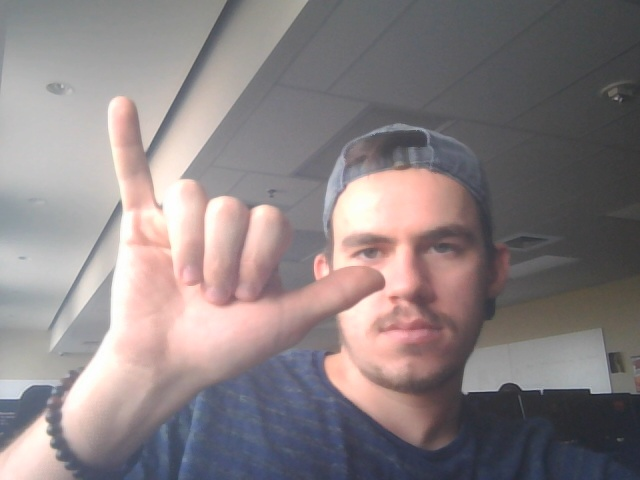birdsup: (92, 92, 395, 390)
